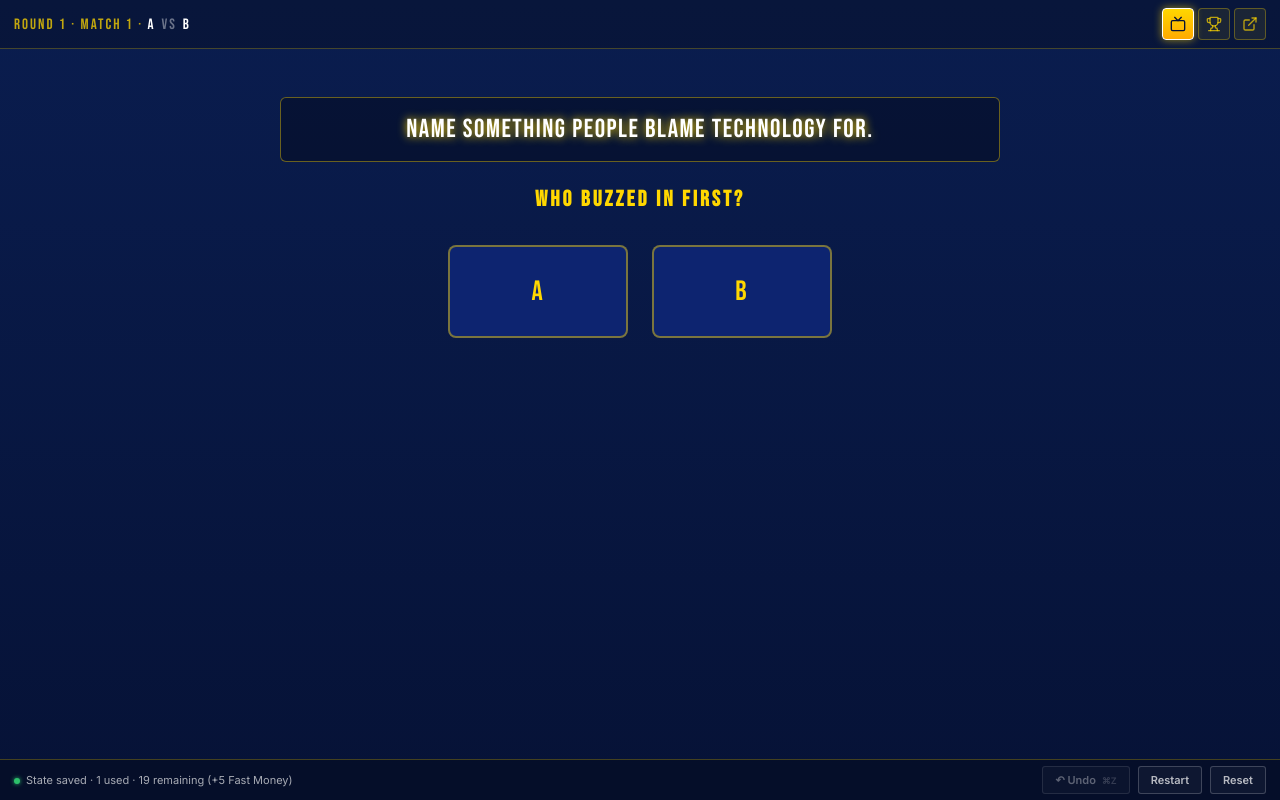
AdminView: Reset and Restart footer buttons › clicking Reset opens the reset confirmation modal
The image size is (1280, 800).
Click the button "Reset". click: (1238,780)
box: top-left (1210, 766), bottom-right (1266, 794)
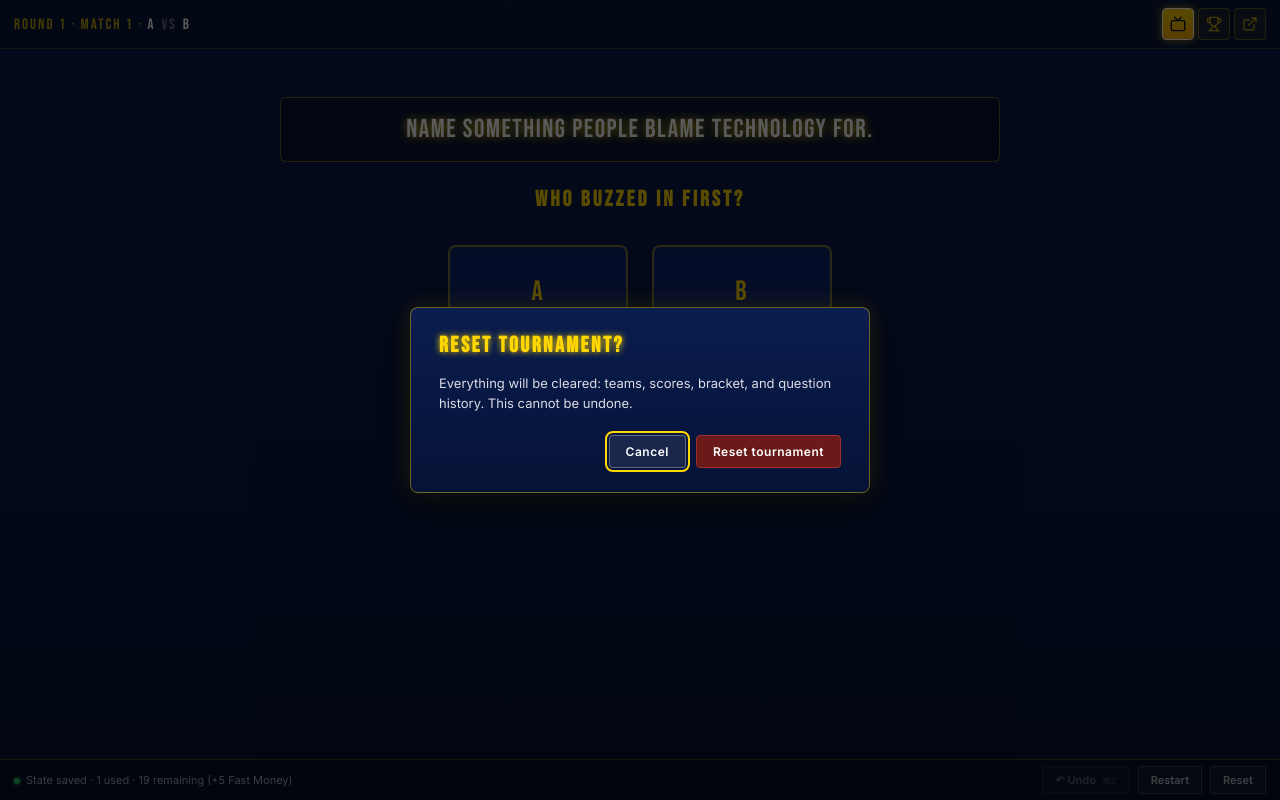
Now the heading "Reset tournament?" is shown, box top-left (439, 332), bottom-right (624, 359)
Now the text "Everything will be cleared" is shown, box top-left (439, 375), bottom-right (831, 411)
